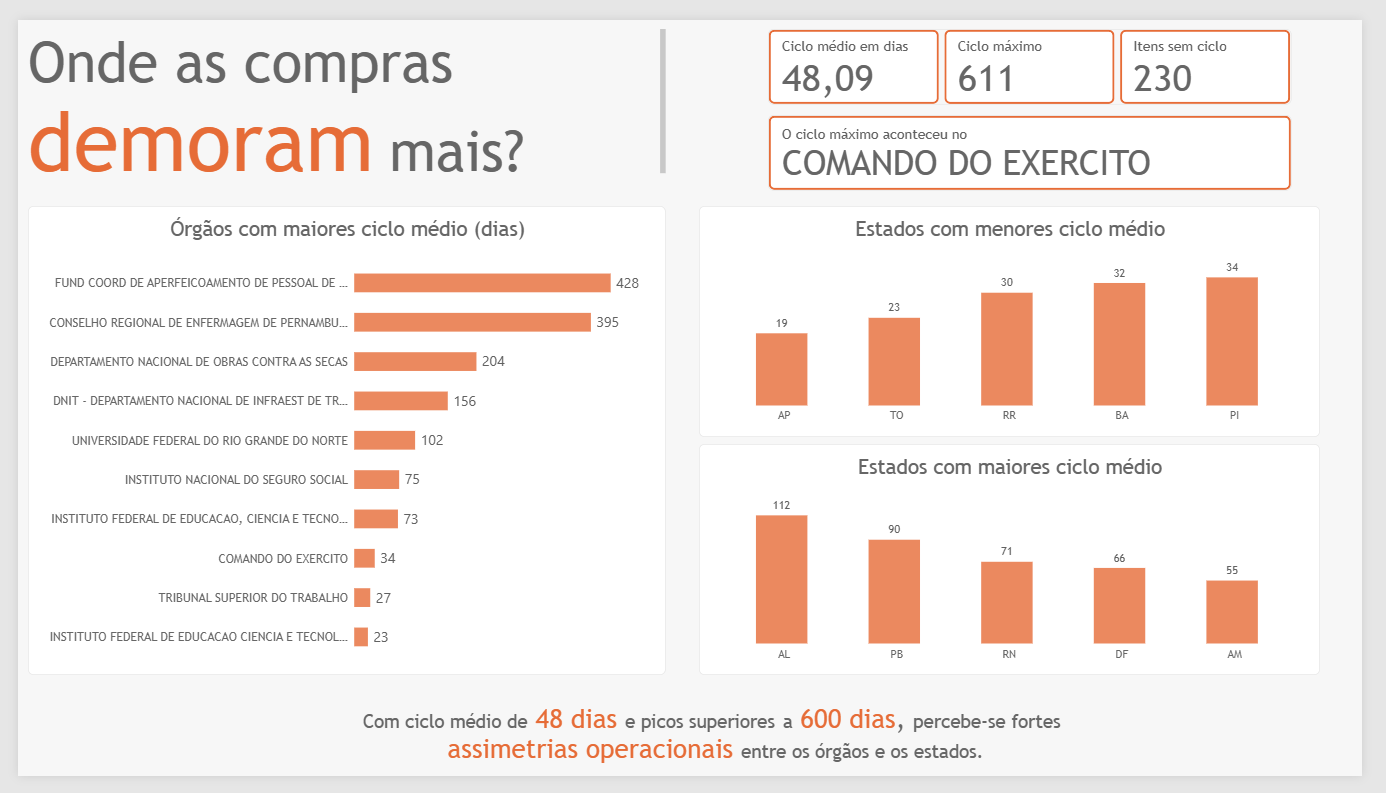

The page's visual inventory and layout, read from the dashboard file:
{"tool":"powerbi","page":{"name":"Ciclo","canvas":[1920,1080],"ordinal":3},"visuals":[{"type":"textbox","box":[14.2,12.8,911,217.1],"z":0},{"type":"textbox","box":[390,975,1201.7,105],"z":1000},{"type":"clusteredBarChart","title":"Órgãos com maiores ciclo médio (dias)","fields":{"Category":["pncp_controladoria dim_orgao.nome_orgao"],"Y":["_Medidas.ciclo_medio(dias)"]},"box":[14.2,265.4,911,669.8],"z":2000},{"type":"columnChart","title":"Estados com menores ciclo médio","fields":{"Category":["pncp_controladoria dim_localidade.uf_sigla"],"Y":["_Medidas.ciclo_medio(dias)"]},"box":[973.3,265,886.7,330],"z":3000},{"type":"cardVisual","title":" Economia","fields":{"Data":["_Medidas.ciclo_medio(dias)","_Medidas.ciclo_maximo(dias)","_Medidas.itens_sem_ciclo"]},"box":[1071.7,13.3,748.3,108.3],"z":4000},{"type":"columnChart","title":"Estados com maiores ciclo médio","fields":{"Category":["pncp_controladoria dim_localidade.uf_sigla"],"Y":["_Medidas.ciclo_medio(dias)"]},"box":[973.3,605,886.7,330],"z":5000},{"type":"cardVisual","title":" Economia","fields":{"Data":["Min(pncp_controladoria dim_orgao.nome_orgao)"]},"box":[1071.7,135,748.3,108.3],"z":6000}]}

Visuals, with their boxes in screenshot pixels (x1, y1, x2, y2), scaled from the page's 1920x1080 canvas onto the 1386x793 screenshot:
textbox: [10,9,668,169]
textbox: [282,716,1149,792]
"Órgãos com maiores ciclo médio (dias)" clusteredBarChart: [10,195,668,687]
"Estados com menores ciclo médio" columnChart: [703,195,1343,437]
" Economia" cardVisual: [774,10,1314,89]
"Estados com maiores ciclo médio" columnChart: [703,444,1343,687]
" Economia" cardVisual: [774,99,1314,179]
